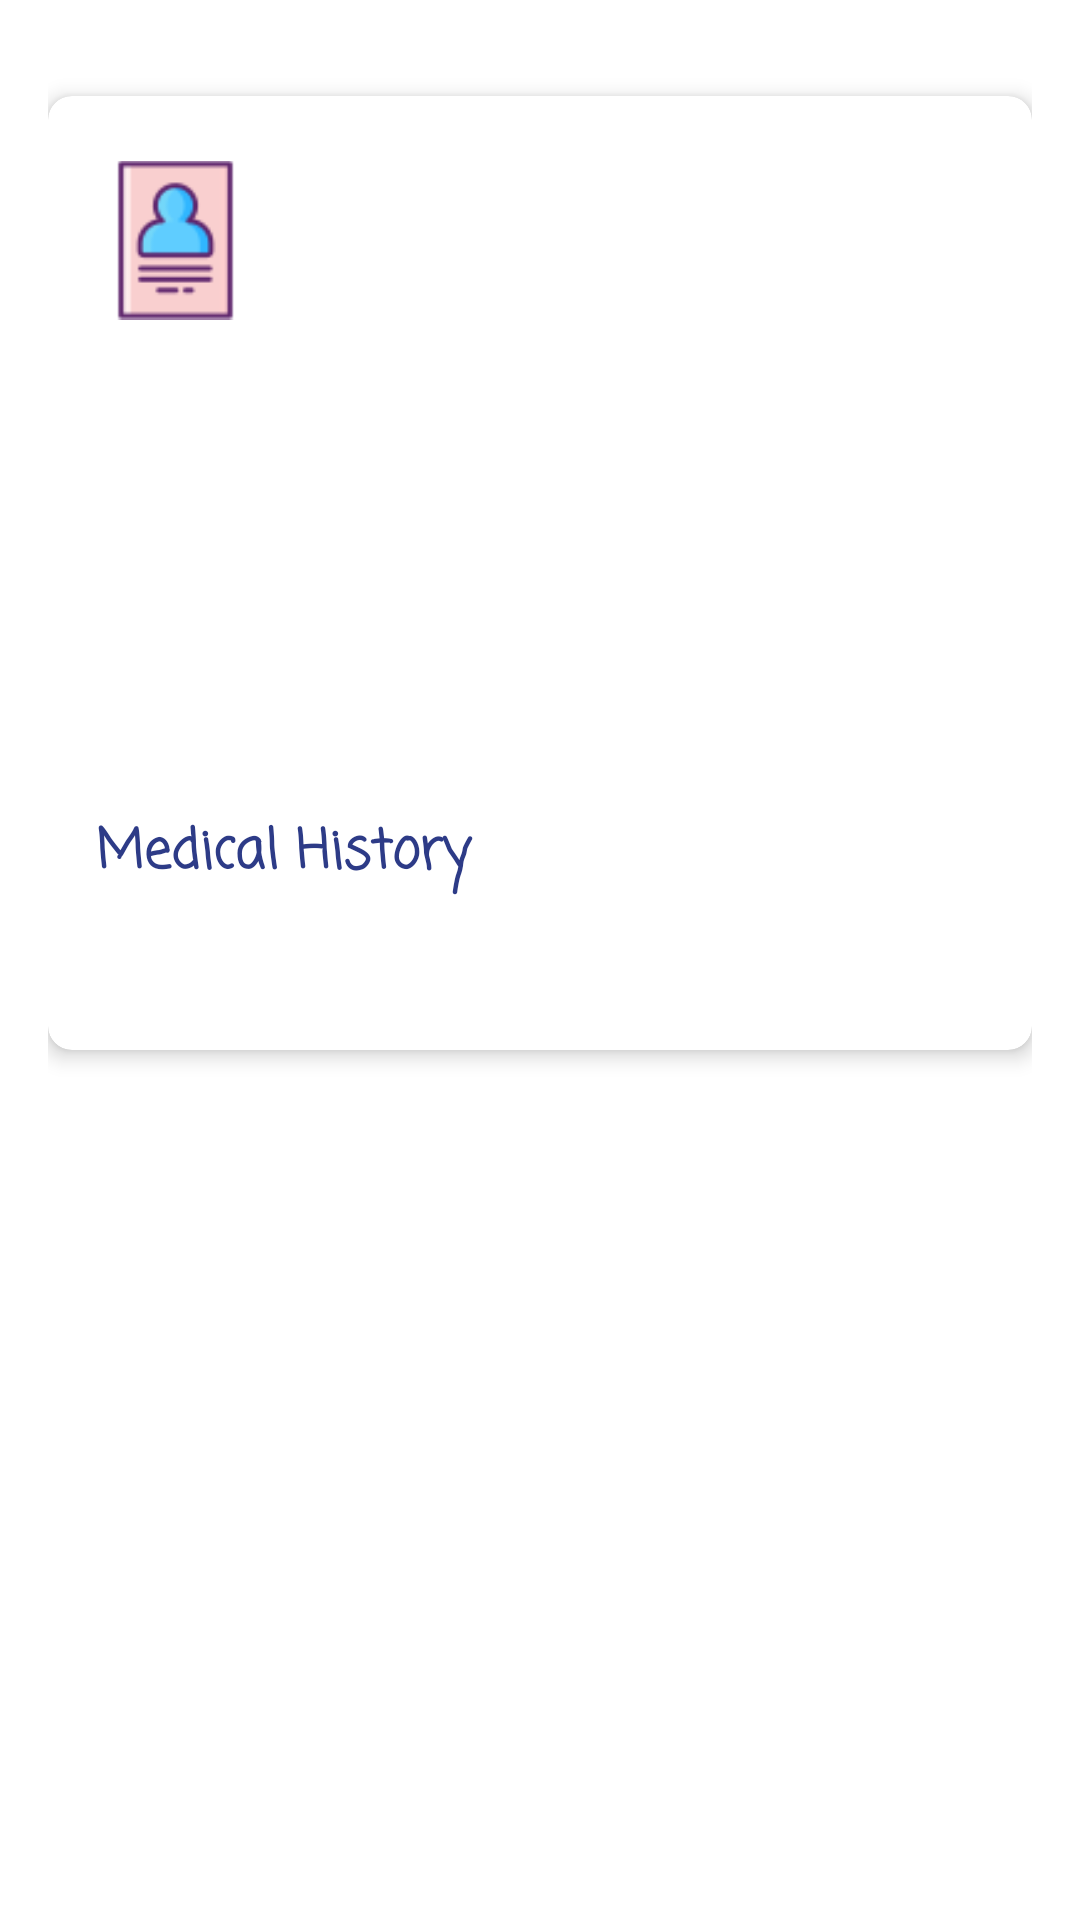

Locate icon controls on the screen. Image size 1080w x 1920h, boxes as {"x1": x1, "y1": y1, "x2": x2, "y2": y2}.
profile: {"x1": 117, "y1": 161, "x2": 234, "y2": 320}
